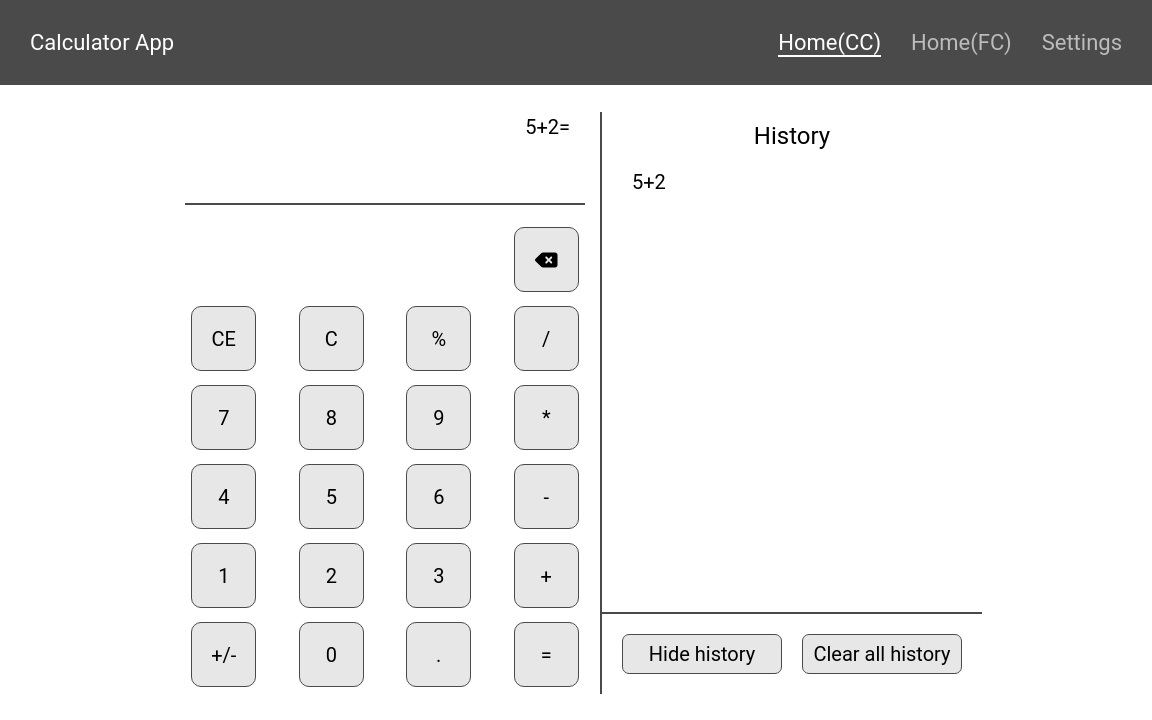
Test: Home CC E2E › should display two-digit number
Click the text with test id "btn1".
click(224, 576)  # box top-left (191, 543), bottom-right (256, 608)
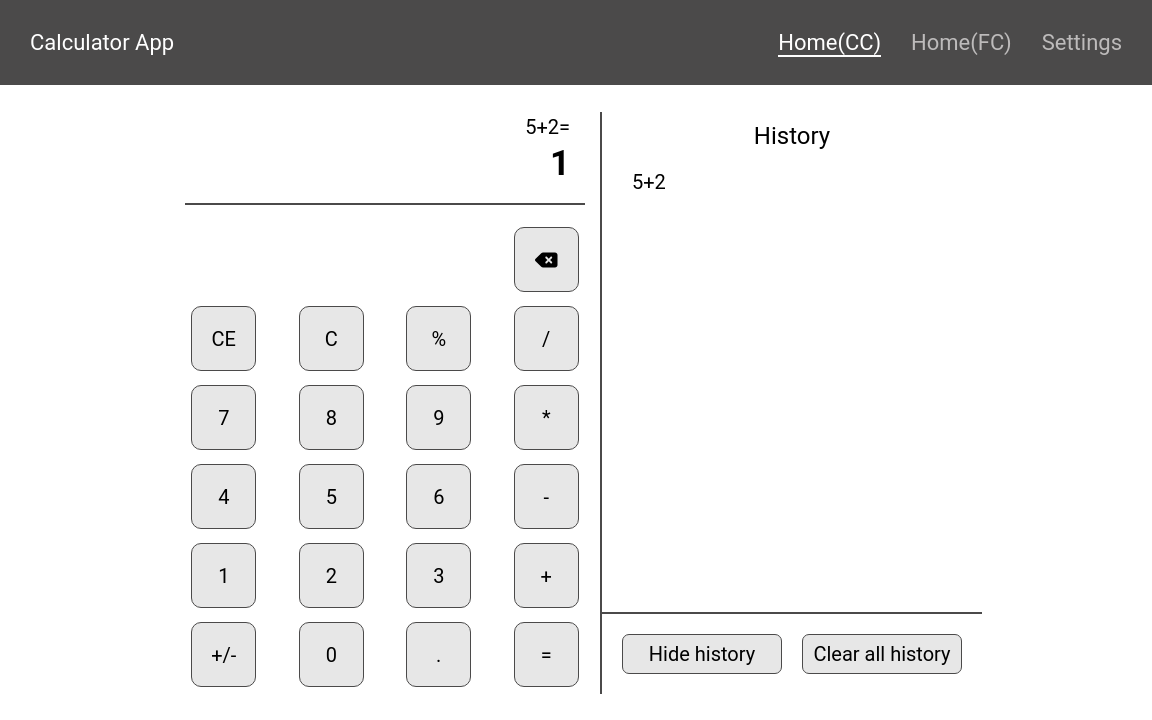
Click the text with test id "btn0".
click(332, 655)  # box top-left (299, 622), bottom-right (364, 687)
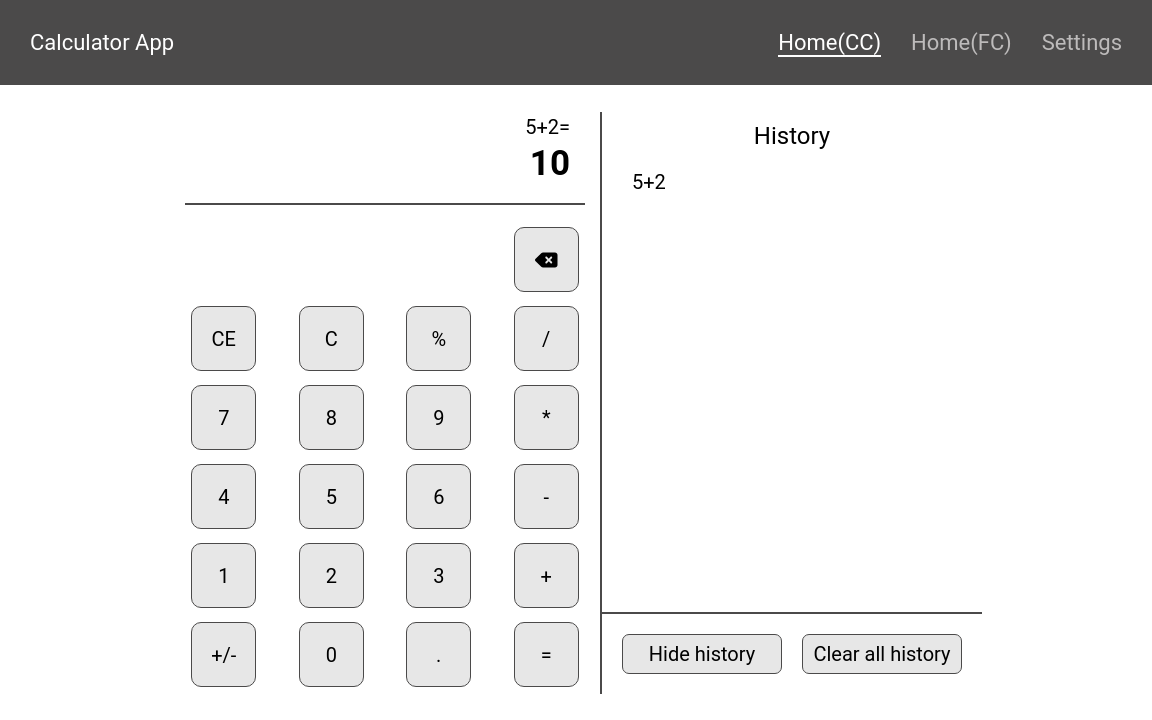
Expected: the text with test id "displayInput" reads "10", top-left (530, 143), bottom-right (570, 184)
